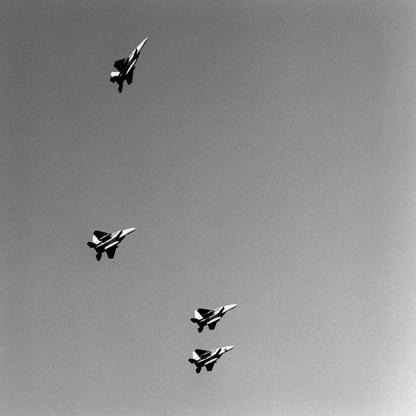F15: (111, 38, 150, 95), (88, 229, 137, 263), (189, 345, 236, 375), (192, 304, 239, 334)
